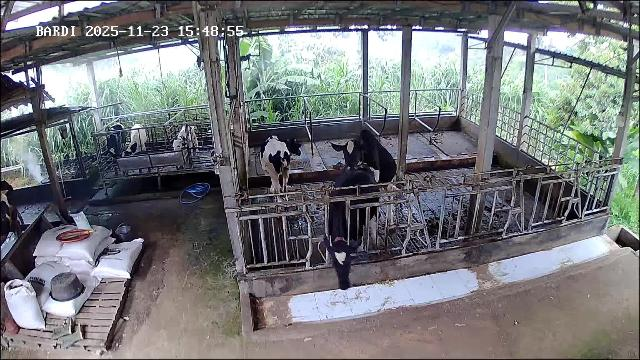mounting: (328, 129, 397, 232)
